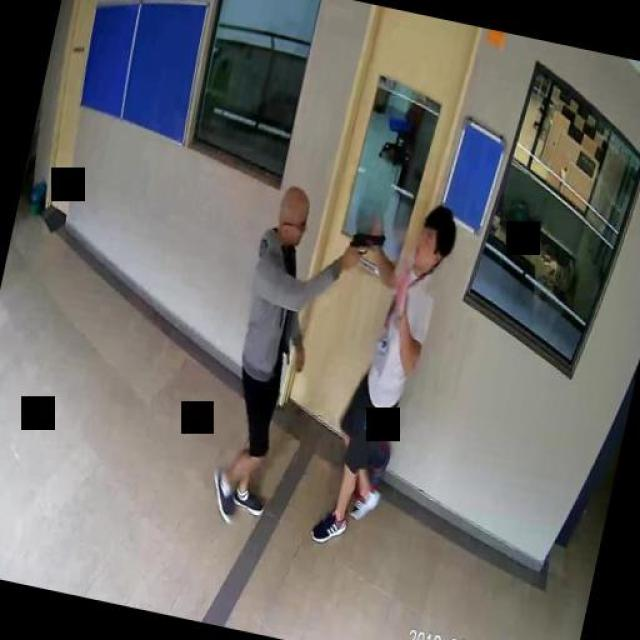gun: (345, 226, 385, 269)
